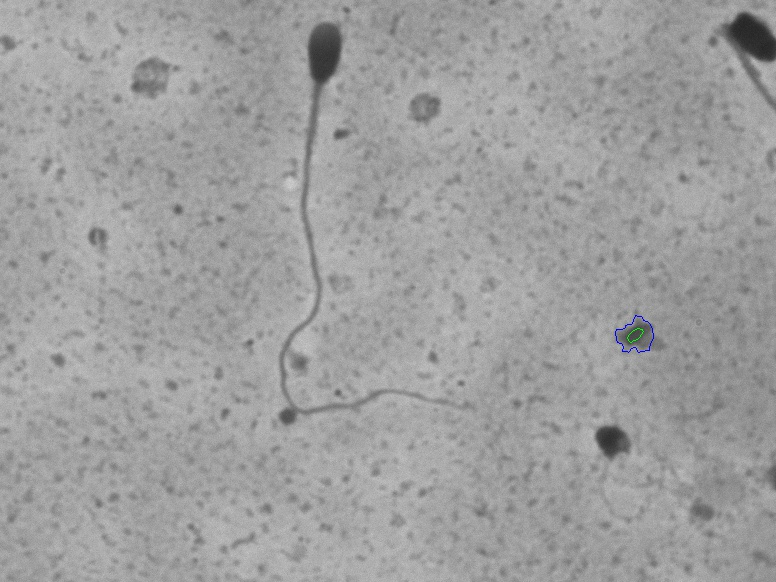Normal: (244, 10, 494, 462)
